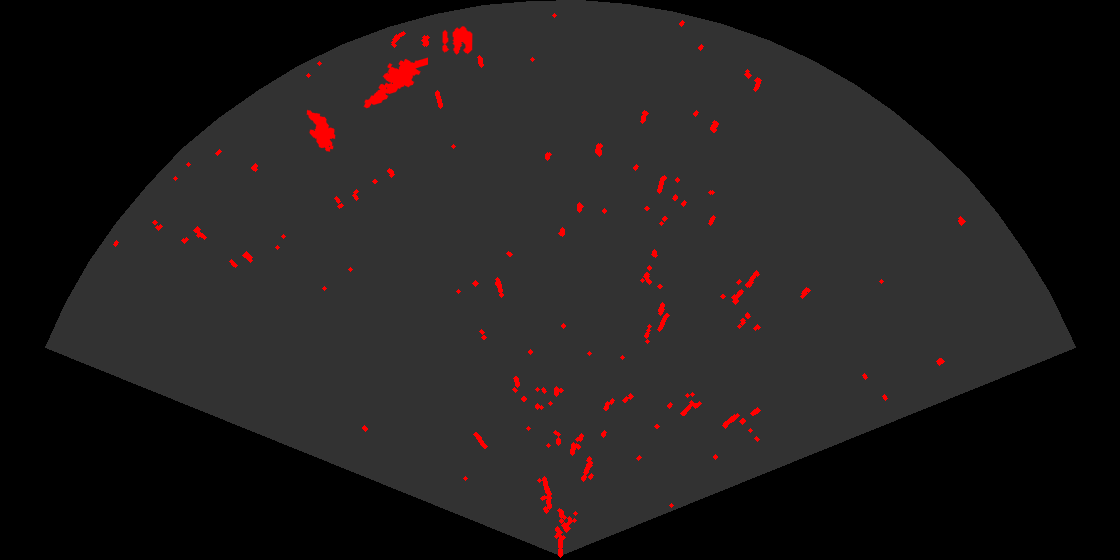AUV: (305, 108, 337, 153)
ball: (441, 25, 474, 56)
frogman: (362, 56, 428, 110)
